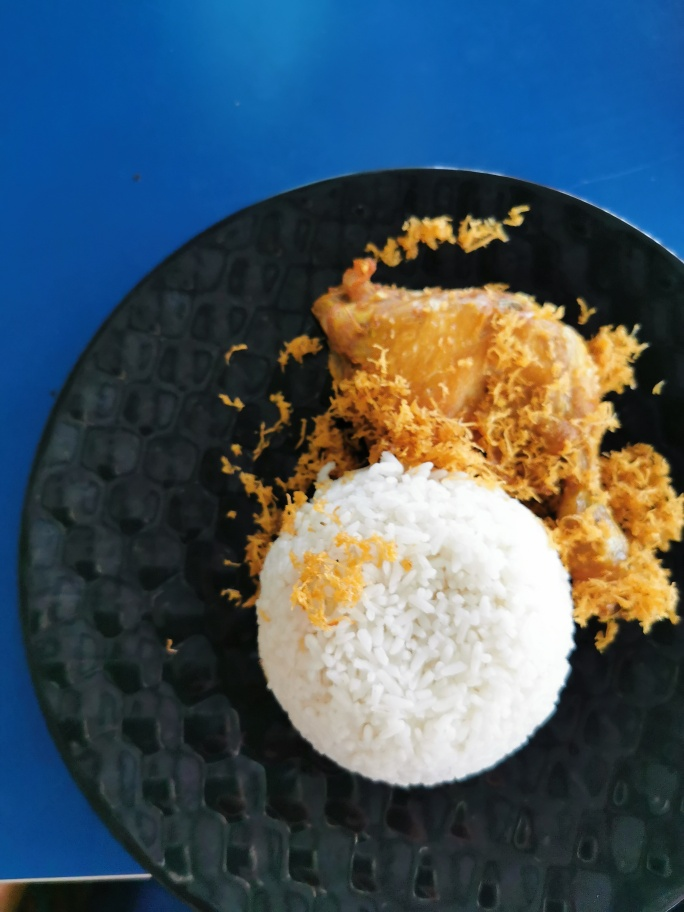ayam goreng: (298, 229, 666, 635)
nasi putih: (262, 462, 573, 795)
